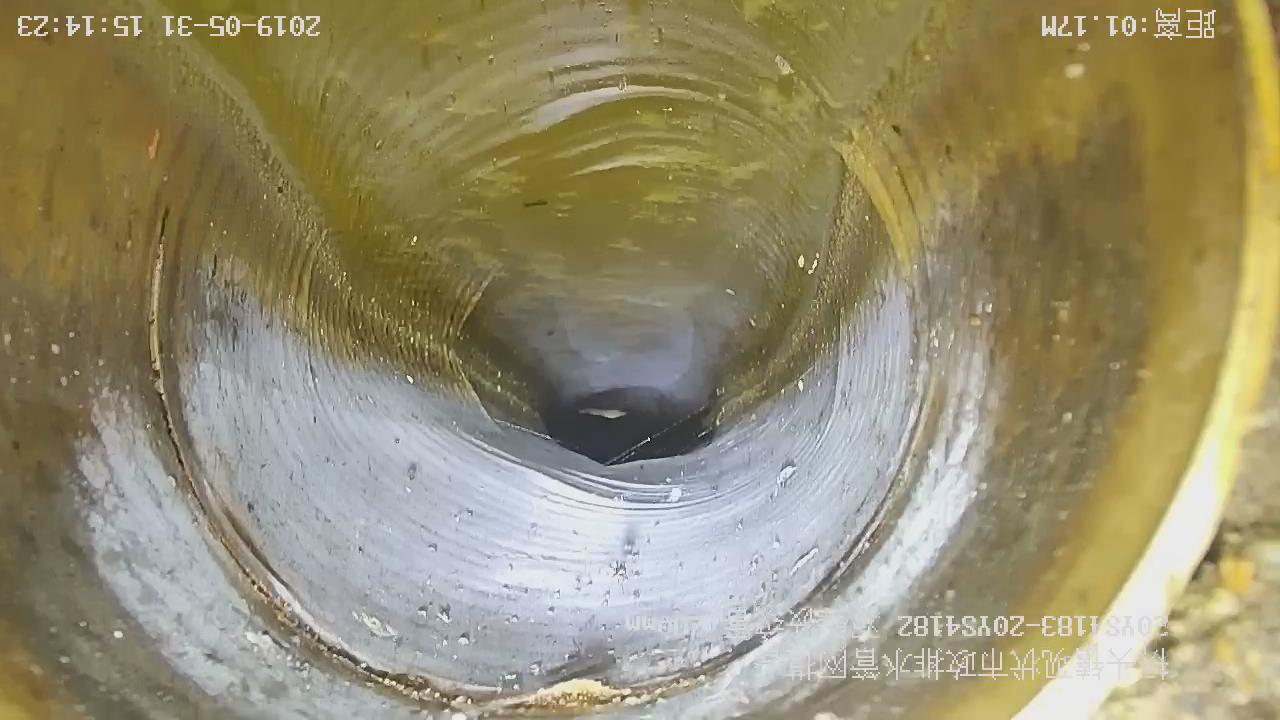BX: (441, 416, 683, 534)
